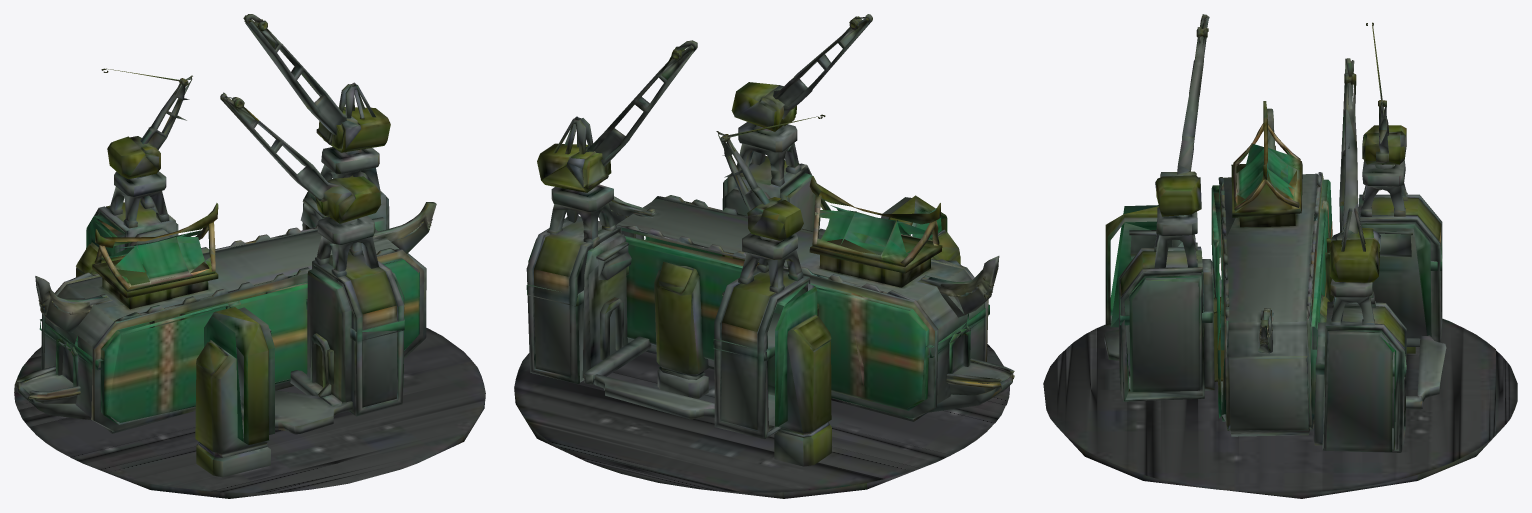
File: nmrf_naval_yard.glb
The picture shows the model from 3 angles, left to right: view 1: azimuth 30°, elevation 25°; view 2: azimuth 150°, elevation 25°; view 3: azimuth 270°, elevation 25°; orthographic projection. The views are drawn at different scales.
Visible parts, largest first — view 1: Body, Trim; view 2: Body, Trim; view 3: Body, Trim.
Part boxes in pixels (x1,y1,x2,y2): Body: (14,14,485,498); Trim: (40,216,419,441); Body: (514,14,1014,498); Trim: (625,205,989,426); Body: (1043,14,1517,498); Trim: (1110,143,1332,418).
Bounding box in the file's own units: 9.22 × 7.22 × 8.64.
Materials: 2 (2 with a texture image).
